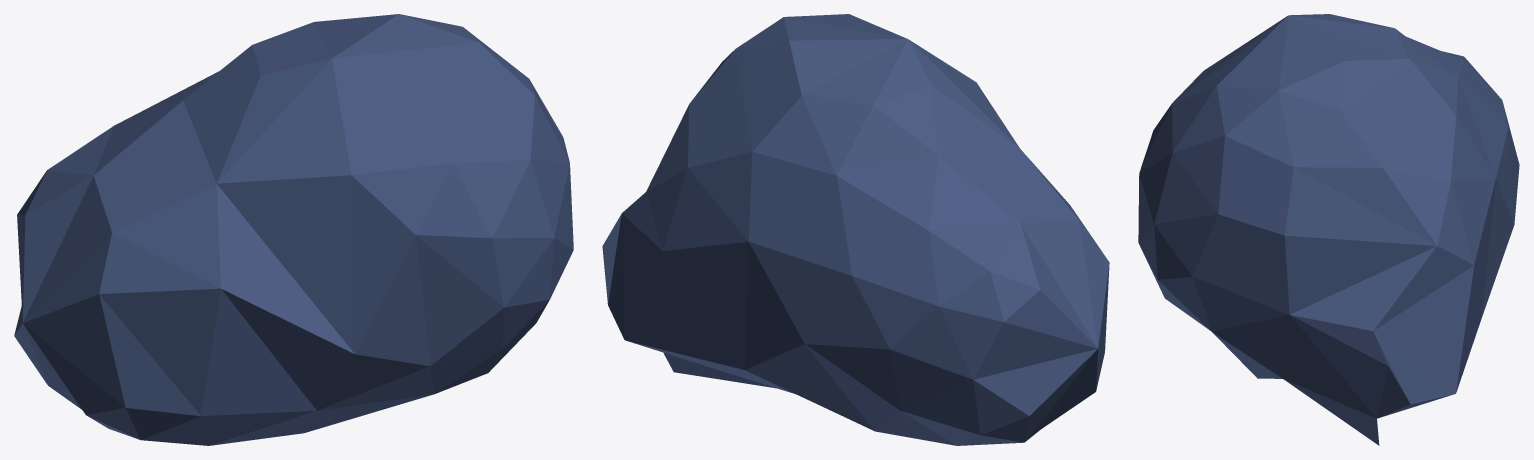
The model's file is Model_10393_LH__Medial_pretectal_area_(MPT).obj.
3 renders of one model, left to right at view 1: azimuth 30°, elevation 25°; view 2: azimuth 150°, elevation 25°; view 3: azimuth 270°, elevation 25°, orthographic. The views are drawn at different scales.
Size of the model in its own units: 0.4975 by 0.3347 by 0.3395.
